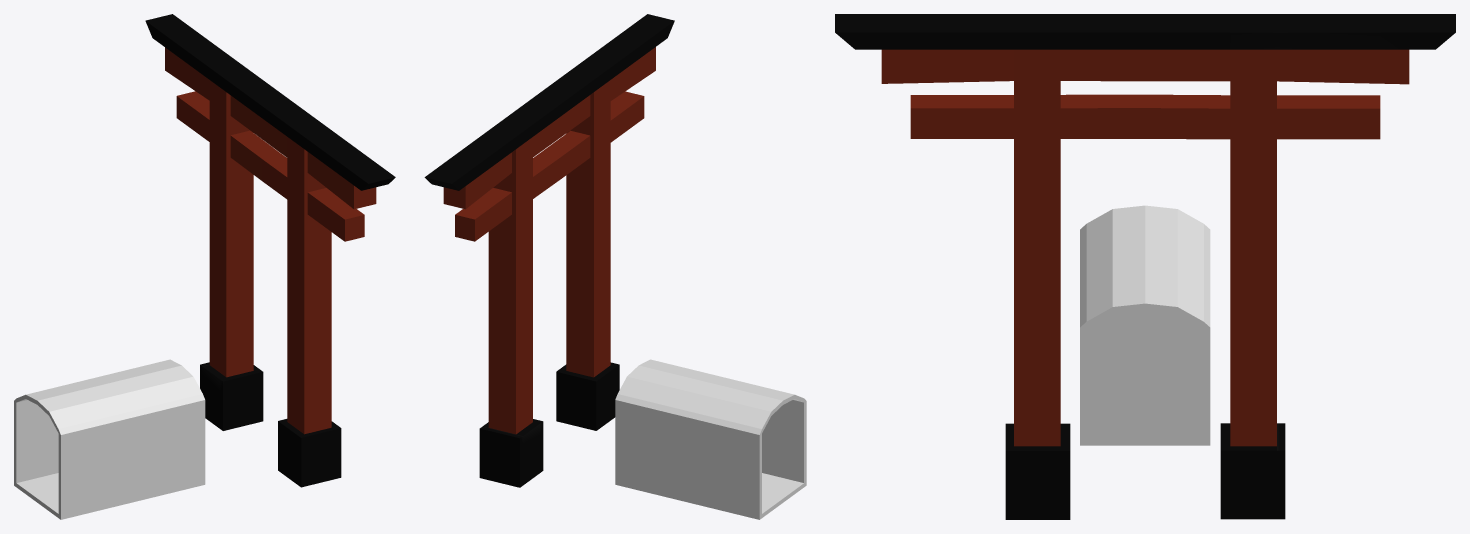
File: Torii.fbx
The picture shows the model from 3 angles, left to right: view 1: azimuth 30°, elevation 25°; view 2: azimuth 150°, elevation 25°; view 3: azimuth 270°, elevation 25°; orthographic projection. The views are drawn at different scales.
Parts seen in each view (by area): view 1: Cube.002, Cube; view 2: Cube.002, Cube; view 3: Cube.002, Cube.
Part boxes in pixels (left/top/right/bottom): Cube.002: left=145, top=14, right=395, bottom=487; Cube: left=14, top=359, right=205, bottom=519; Cube.002: left=424, top=14, right=674, bottom=487; Cube: left=615, top=359, right=806, bottom=519; Cube.002: left=835, top=14, right=1455, bottom=519; Cube: left=1080, top=205, right=1210, bottom=445.
Size of the model in its own units: 626 by 818 by 953.
